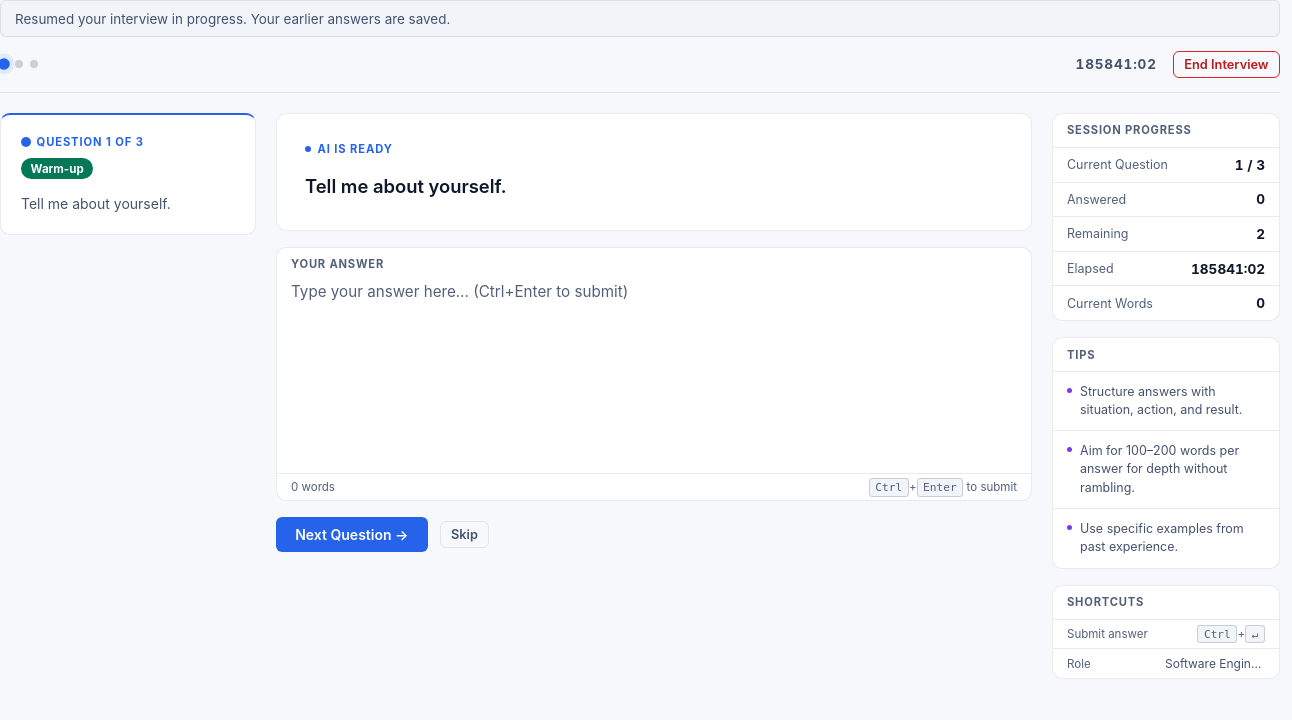
Test case: LiveInterviewPage › Next question (retry safety) › sends the question number and clears the answer after a successful Next
This screenshot has width=1292, height=720.
Expected: the text with test id "current-question" is shown, [305,175,506,197]
Type "My answer." into the text box labelled "your answer". click: coordinates (654, 370)
box: [277,271,1031,468]
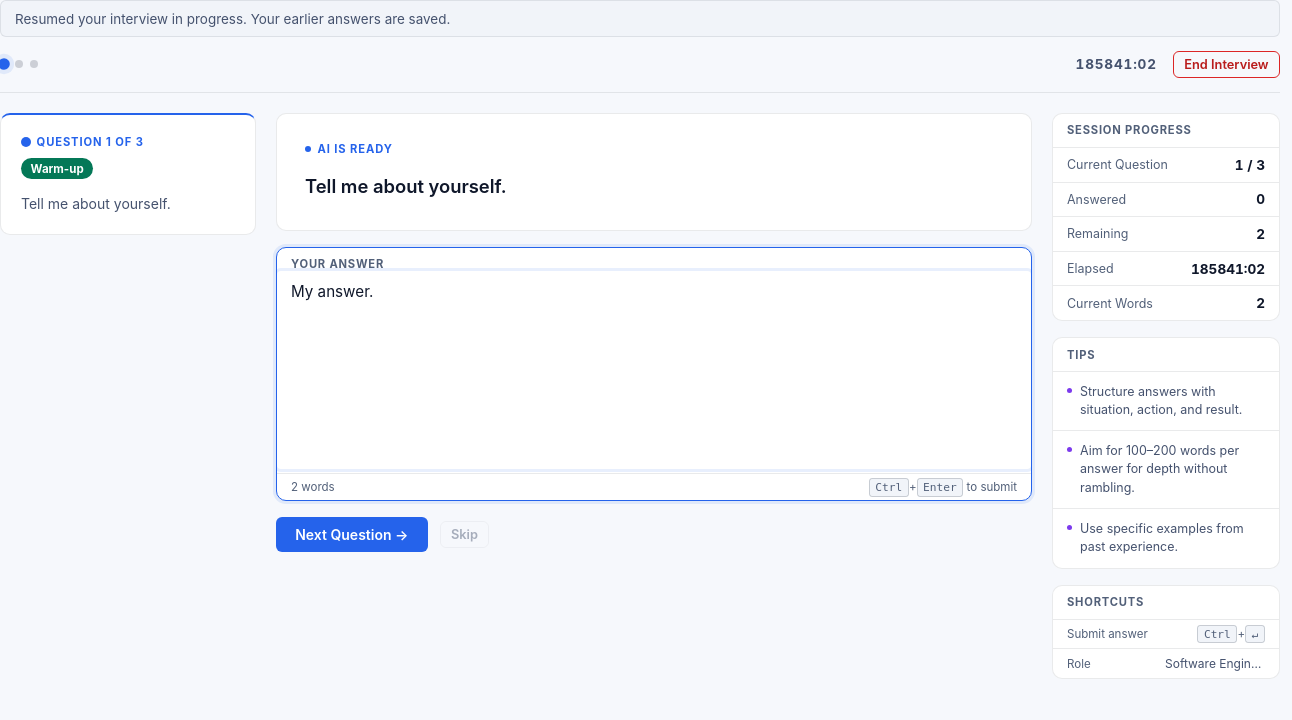
Click the button "Next Question →". click: coordinates (352, 535)
box: [276,517,428,552]
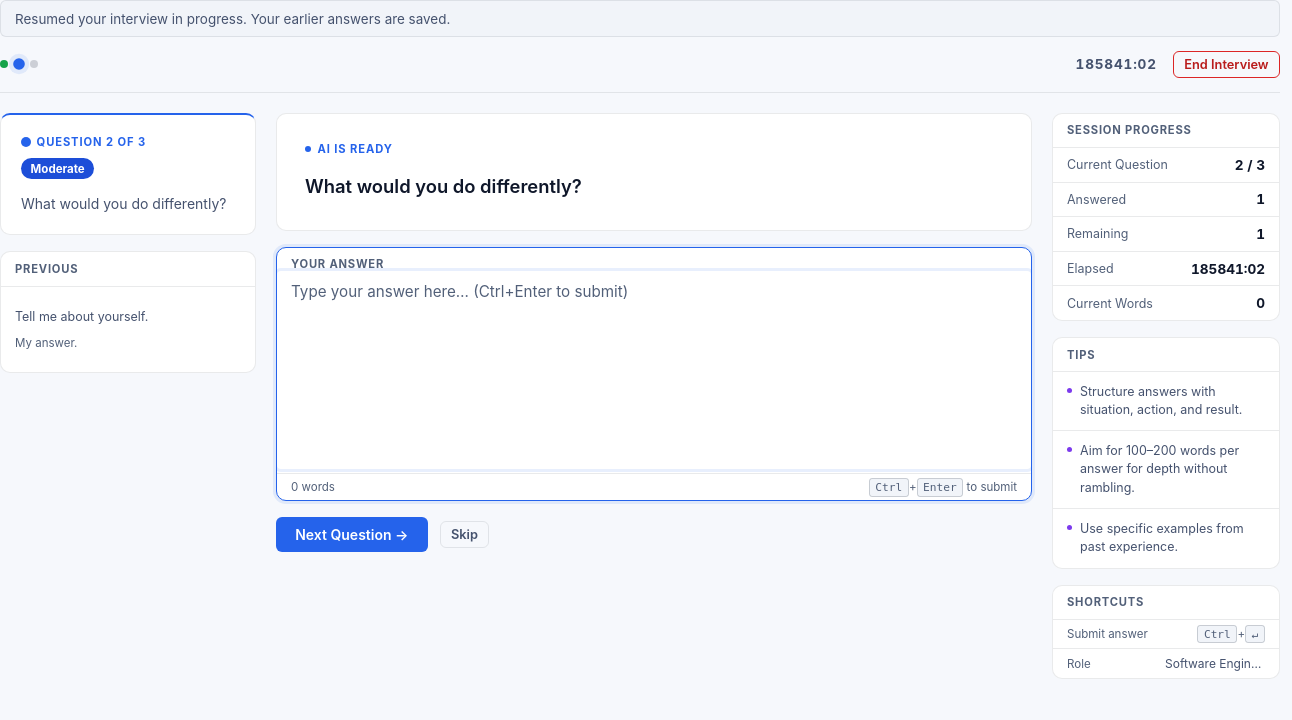
Expected: the text with test id "current-question" reads "What would you do differently?", [305,175,582,197]
Expected: the text box labelled "your answer" is empty, [277,271,1031,468]
